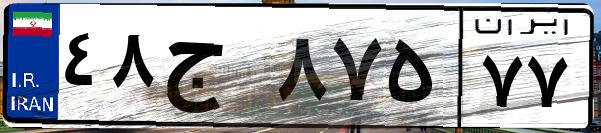4: (57, 26, 110, 100)
5: (385, 28, 445, 110)
7: (330, 28, 385, 110), (475, 38, 525, 113), (525, 38, 570, 115)
8: (270, 28, 330, 110), (110, 28, 158, 98)
ج: (158, 20, 270, 120)
